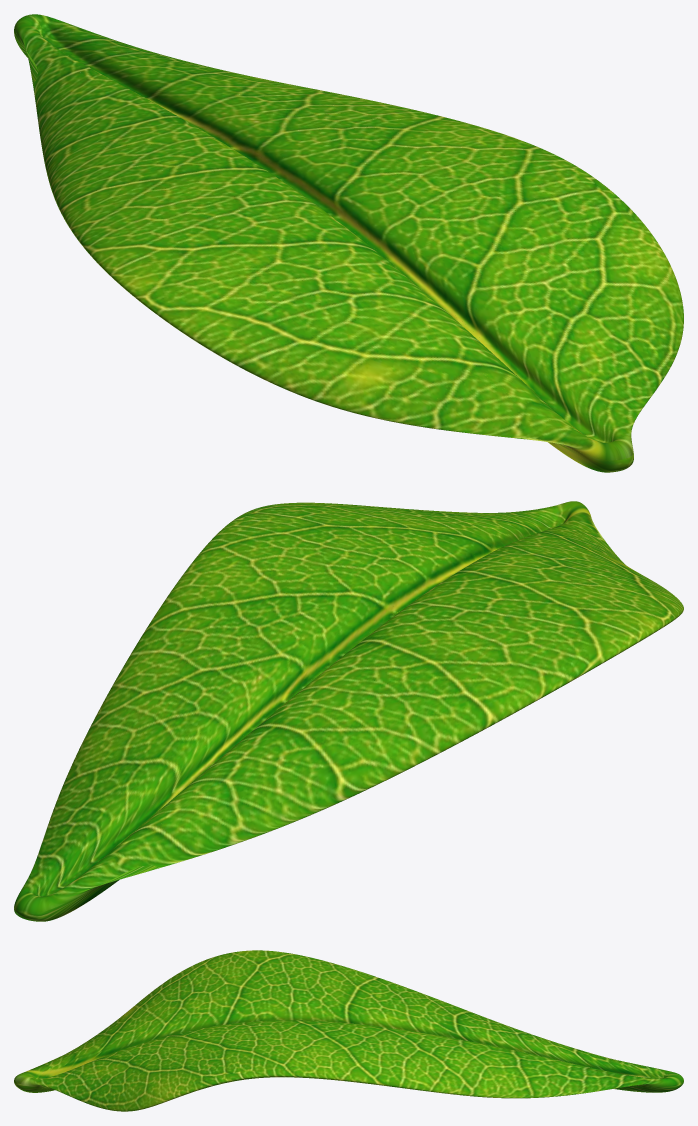
The model's file is single_leaf.glb.
The picture shows the model from 3 angles, top to bottom: view 1: azimuth 30°, elevation 25°; view 2: azimuth 150°, elevation 25°; view 3: azimuth 270°, elevation 25°; orthographic projection. The views are drawn at different scales.
Parts seen in each view (by area): view 1: Plane; view 2: Plane; view 3: Plane.
Part boxes in pixels (x1,y1,x2,y2): Plane: (14,14,683,472); Plane: (14,501,683,921); Plane: (14,950,683,1111).
Size of the model in its own units: 2.31 by 0.5642 by 5.1.
1 material, 1 textured.
